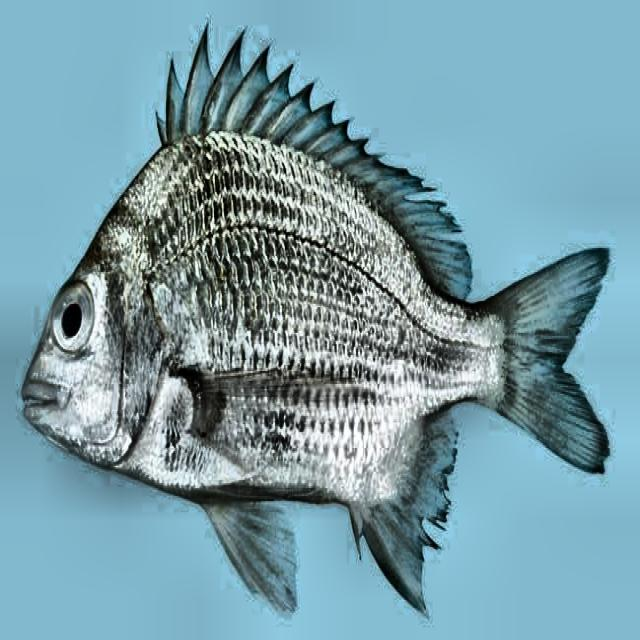fish: (21, 21, 612, 619)
